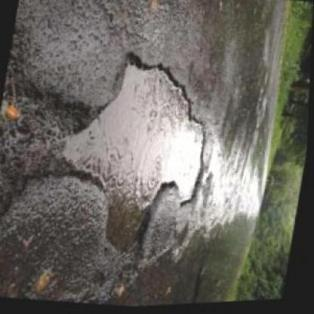Hueco: (51, 40, 225, 269)
